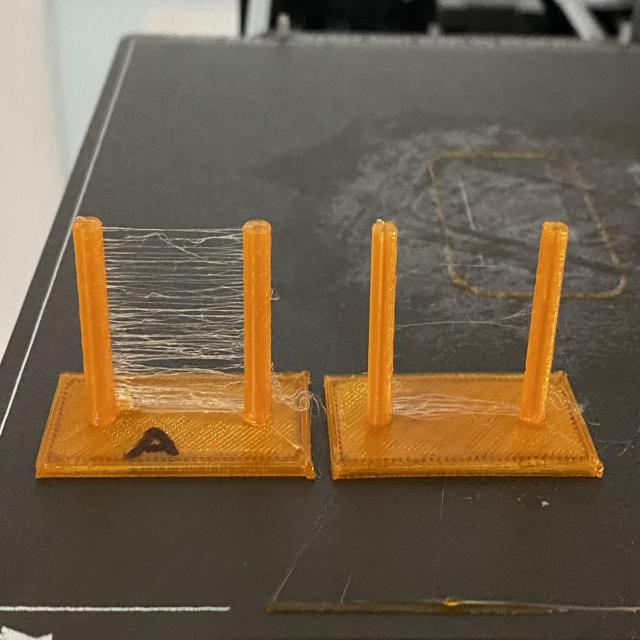stringing: (103, 230, 244, 416), (391, 397, 520, 422), (271, 371, 325, 419)
